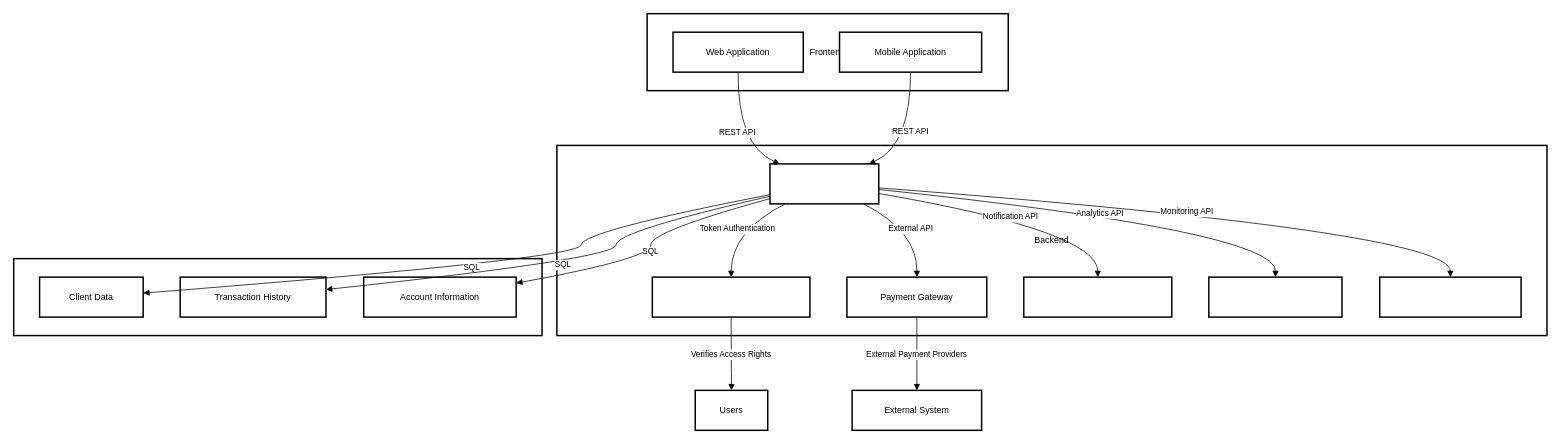
Image size: 1560x443. Some labels were removed from this diagram. The shapes that lost their labels are listed below. From the top down, each one's centre as x and y in pixels, then its label:
At point 824,183: "Server Logic".
At point 730,296: "Authorization Service".
At point 1097,296: "Notification System".
At point 1275,296: "Analytics Module".
At point 1450,296: "Monitoring System".
